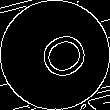O_SW: (22, 24, 88, 86)
